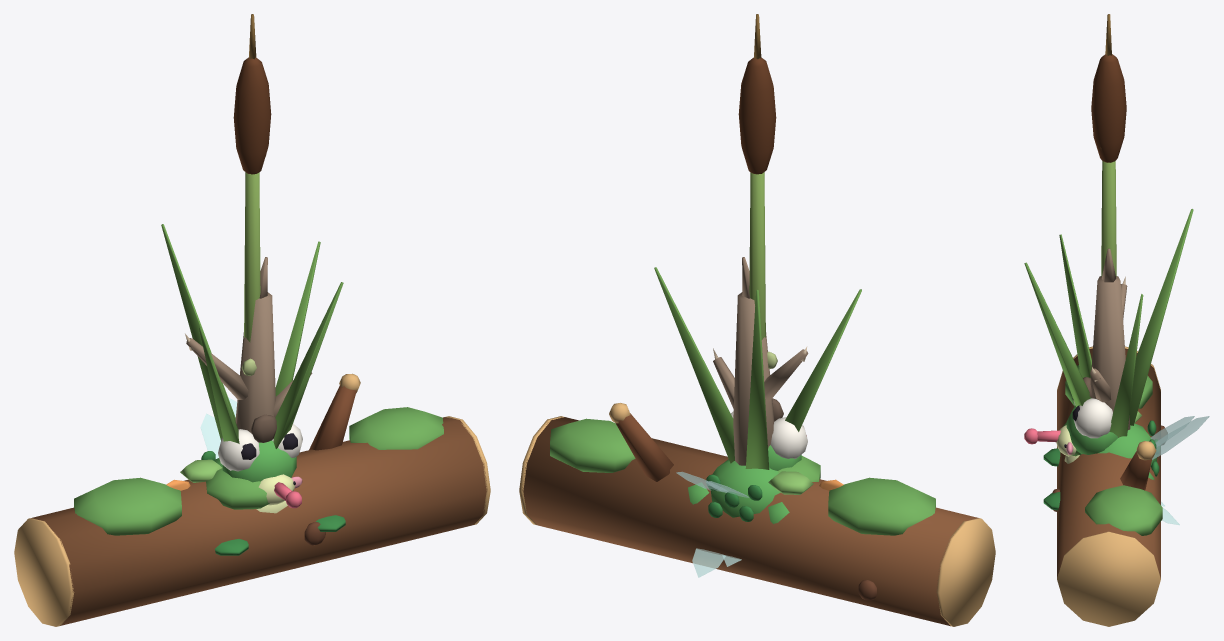
File: water-care-cast.glb
3 renders of one model, left to right at view 1: azimuth 30°, elevation 25°; view 2: azimuth 150°, elevation 25°; view 3: azimuth 270°, elevation 25°, orthographic. The views are drawn at different scales.
Visible parts, largest first — view 1: CRITTER_log_trunk, CRITTER_log, CRITTER_cattail, CRITTER_log_cut_L, CRITTER_snag_trunk, CRITTER_cattail_seed, CRITTER_cattail_stalk, CRITTER_log_stub, CRITTER_frog_head, CRITTER_snag, CRITTER_frog_L_eye; view 2: CRITTER_log_trunk, CRITTER_log, CRITTER_cattail, CRITTER_log_cut_L, CRITTER_cattail_seed, CRITTER_snag_trunk, CRITTER_frog_back, CRITTER_cattail_stalk, CRITTER_log_stub, CRITTER_snag, CRITTER_frog_L_eye, CRITTER_frog; view 3: CRITTER_log_cut_R, CRITTER_log_trunk, CRITTER_cattail, CRITTER_log, CRITTER_snag_trunk, CRITTER_cattail_seed, CRITTER_cattail_stalk, CRITTER_frog_R_eye, CRITTER_frog_head, CRITTER_frog_back, CRITTER_dragonfly_wing_L_fore, CRITTER_log_stub (+6 smaller).
Boxes of the visible parts, x1=… form: CRITTER_log_trunk: x1=31, y1=417, x2=487, y2=625; CRITTER_log: x1=74, y1=407, x2=443, y2=545; CRITTER_cattail: x1=161, y1=224, x2=343, y2=448; CRITTER_log_cut_L: x1=14, y1=518, x2=74, y2=626; CRITTER_snag_trunk: x1=235, y1=292, x2=275, y2=433; CRITTER_cattail_seed: x1=233, y1=57, x2=271, y2=174; CRITTER_cattail_stalk: x1=244, y1=172, x2=260, y2=342; CRITTER_log_stub: x1=309, y1=385, x2=356, y2=450; CRITTER_frog_head: x1=222, y1=440, x2=296, y2=482; CRITTER_snag: x1=185, y1=333, x2=312, y2=417; CRITTER_frog_L_eye: x1=218, y1=429, x2=259, y2=471; CRITTER_log_trunk: x1=522, y1=417, x2=978, y2=626; CRITTER_log: x1=550, y1=418, x2=935, y2=600; CRITTER_cattail: x1=654, y1=267, x2=861, y2=469; CRITTER_log_cut_L: x1=936, y1=518, x2=995, y2=626; CRITTER_cattail_seed: x1=738, y1=57, x2=776, y2=174; CRITTER_snag_trunk: x1=733, y1=292, x2=774, y2=465; CRITTER_frog_back: x1=710, y1=459, x2=780, y2=517; CRITTER_cattail_stalk: x1=749, y1=172, x2=765, y2=339; CRITTER_log_stub: x1=615, y1=413, x2=673, y2=481; CRITTER_snag: x1=713, y1=346, x2=808, y2=408; CRITTER_frog_L_eye: x1=770, y1=417, x2=807, y2=458; CRITTER_frog: x1=706, y1=474, x2=762, y2=521; CRITTER_log_cut_R: x1=1057, y1=531, x2=1160, y2=626; CRITTER_log_trunk: x1=1057, y1=348, x2=1160, y2=578; CRITTER_cattail: x1=1024, y1=209, x2=1193, y2=437; CRITTER_log: x1=1052, y1=365, x2=1167, y2=535; CRITTER_snag_trunk: x1=1090, y1=276, x2=1130, y2=437; CRITTER_cattail_seed: x1=1091, y1=54, x2=1126, y2=162; CRITTER_cattail_stalk: x1=1101, y1=161, x2=1116, y2=276; CRITTER_frog_R_eye: x1=1074, y1=398, x2=1112, y2=438; CRITTER_frog_head: x1=1066, y1=405, x2=1118, y2=454; CRITTER_frog_back: x1=1098, y1=423, x2=1156, y2=466; CRITTER_dragonfly_wing_L_fore: x1=1152, y1=416, x2=1209, y2=459; CRITTER_log_stub: x1=1120, y1=451, x2=1152, y2=490.
Bounding box in the file's own units: 0.608 × 0.77 × 0.2505.
